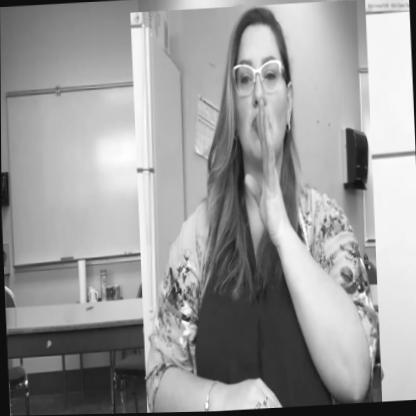Talk: (130, 0, 381, 414)
